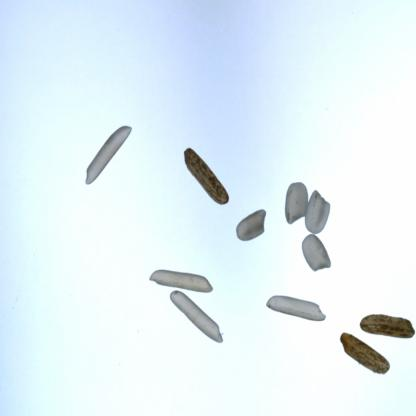Full: (70, 119, 138, 202), (170, 141, 232, 219), (166, 282, 222, 360), (335, 322, 394, 373), (263, 287, 327, 329), (135, 268, 209, 302), (353, 303, 416, 341), (226, 207, 272, 250), (294, 231, 334, 275), (298, 186, 330, 235), (278, 176, 307, 224)
